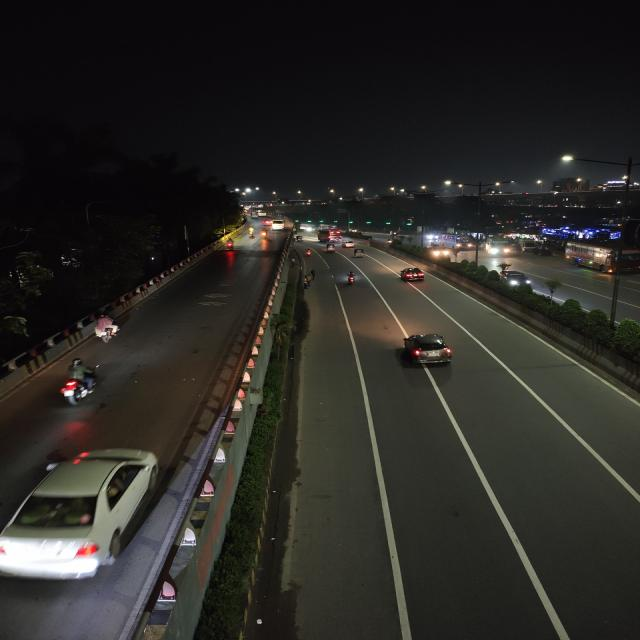bus: (563, 238, 640, 276), (484, 235, 516, 258), (451, 234, 477, 251)
car: (0, 442, 165, 587), (398, 331, 457, 371), (499, 269, 534, 288), (398, 265, 426, 283), (269, 219, 287, 230), (342, 238, 355, 248)
cng: (352, 248, 366, 259), (326, 245, 336, 252)
motorcycle: (56, 358, 101, 407), (90, 314, 123, 345), (344, 271, 358, 286), (224, 238, 236, 252), (246, 229, 256, 239), (260, 230, 270, 240), (294, 234, 304, 243), (305, 250, 312, 257)
pedestrian: (298, 275, 310, 290), (307, 268, 318, 280)
